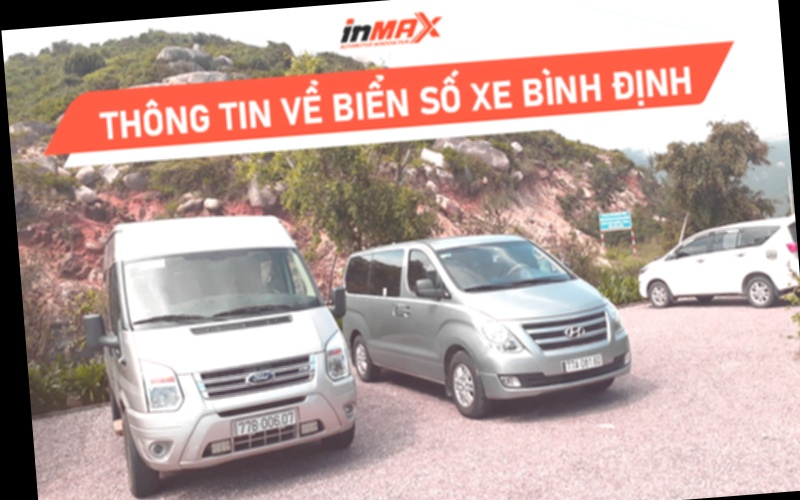Bien-so: (205, 362, 274, 389), (558, 336, 601, 356)
